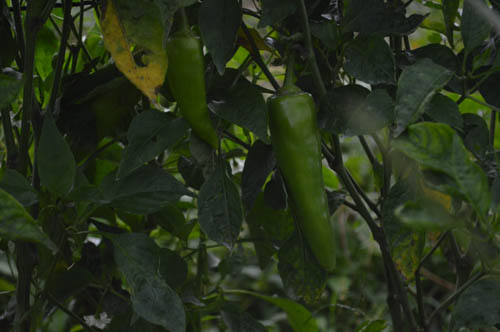ChiliPepper: (271, 94, 334, 267), (169, 35, 220, 148)
